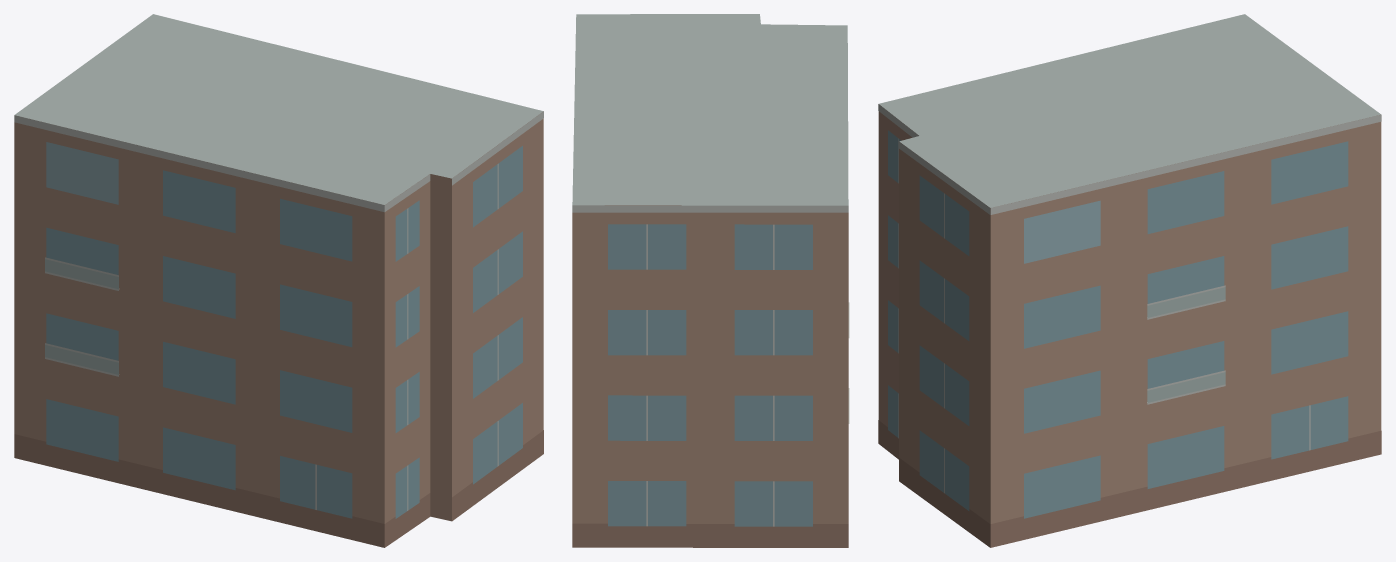
Rendered from survey-upis-32721144.glb.
3 views of the same model, side by side, from view 1: azimuth 30°, elevation 25°; view 2: azimuth 150°, elevation 25°; view 3: azimuth 270°, elevation 25° (orthographic).
Visible parts, largest first — view 1: survey-upis-32721144.tmp; view 2: survey-upis-32721144.tmp; view 3: survey-upis-32721144.tmp.
Boxes of the visible parts, <box> form: survey-upis-32721144.tmp: <box>14,14,543,547</box>; survey-upis-32721144.tmp: <box>572,14,849,547</box>; survey-upis-32721144.tmp: <box>878,14,1381,547</box>.
Size of the model in its own units: 14.27 by 11.65 by 15.63.
